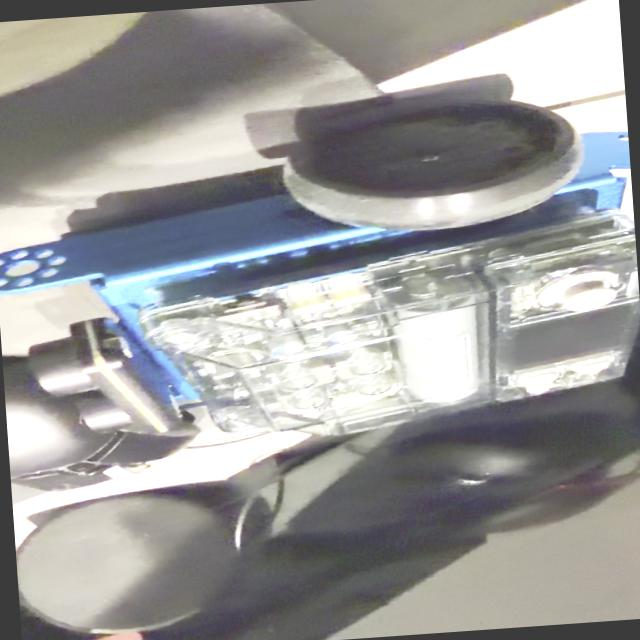mbot-detection: (0, 75, 640, 468)
